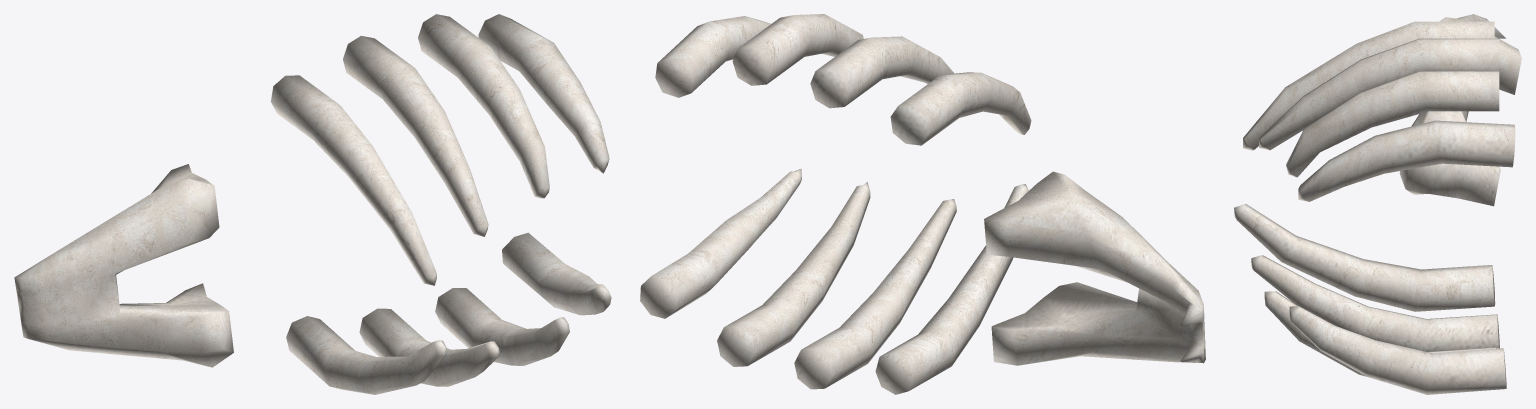
Rendered from skeleton.fbx.
3 views of the same model, side by side, from view 1: azimuth 30°, elevation 25°; view 2: azimuth 150°, elevation 25°; view 3: azimuth 270°, elevation 25° (orthographic). The views are drawn at different scales.
Parts seen in each view (by area): view 1: Cube.001; view 2: Cube.001; view 3: Cube.001.
Part boxes in pixels (x1,y1,x2,y2): Cube.001: (14, 14, 611, 394); Cube.001: (640, 14, 1205, 394); Cube.001: (1234, 14, 1521, 394).
Bounding box in the file's own units: 2909 × 1683 × 1397.
1 material, 1 textured.
